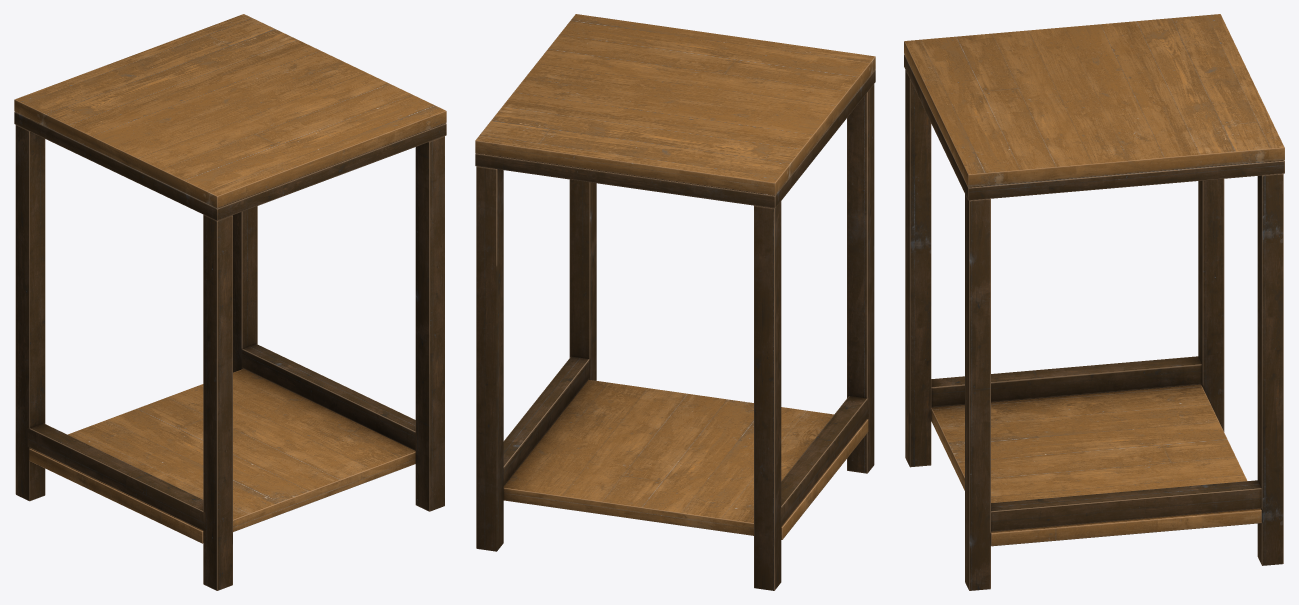
The model's file is B1M1_SmallTable_GEO.fbx.
3 views of the same model, side by side, from view 1: azimuth 30°, elevation 25°; view 2: azimuth 150°, elevation 25°; view 3: azimuth 270°, elevation 25° (orthographic). The views are drawn at different scales.
Parts seen in each view (by area): view 1: B1M1_SmallTable; view 2: B1M1_SmallTable; view 3: B1M1_SmallTable.
Boxes of the visible parts, <box> form: B1M1_SmallTable: <box>14,14,446,590</box>; B1M1_SmallTable: <box>475,14,875,590</box>; B1M1_SmallTable: <box>904,14,1284,590</box>.
Bounding box in the file's own units: 61.93 × 74.84 × 61.93.
